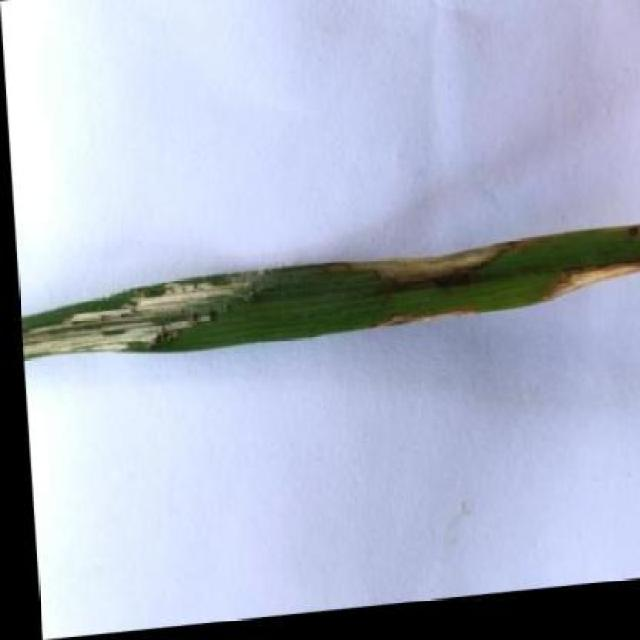Brown_Spot: (15, 225, 640, 384)
